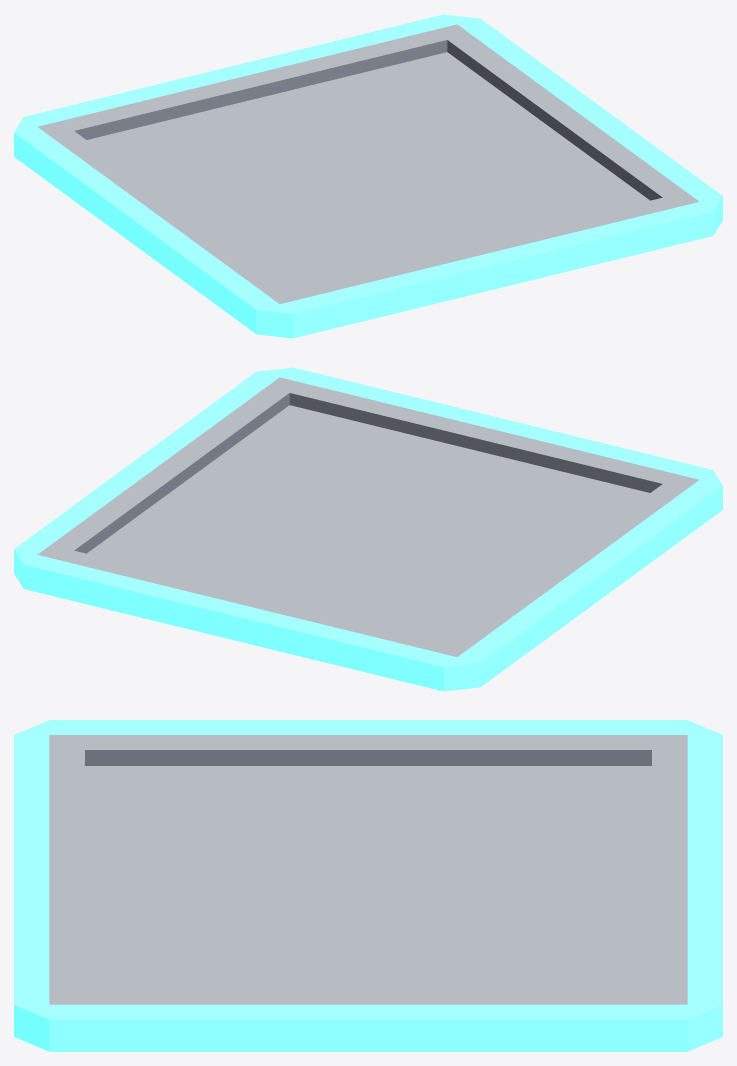
Rendered from platform_large.glb.
3 renders of one model, top to bottom at view 1: azimuth 30°, elevation 25°; view 2: azimuth 150°, elevation 25°; view 3: azimuth 270°, elevation 25°, orthographic. The views are drawn at different scales.
Parts seen in each view (by area): view 1: platform_large; view 2: platform_large; view 3: platform_large.
Part boxes in pixels (x1,y1,x2,y2): platform_large: (14,14,722,338); platform_large: (14,367,722,691); platform_large: (14,720,722,1051).
Bounding box in the file's own units: 2 × 0.1 × 2.
